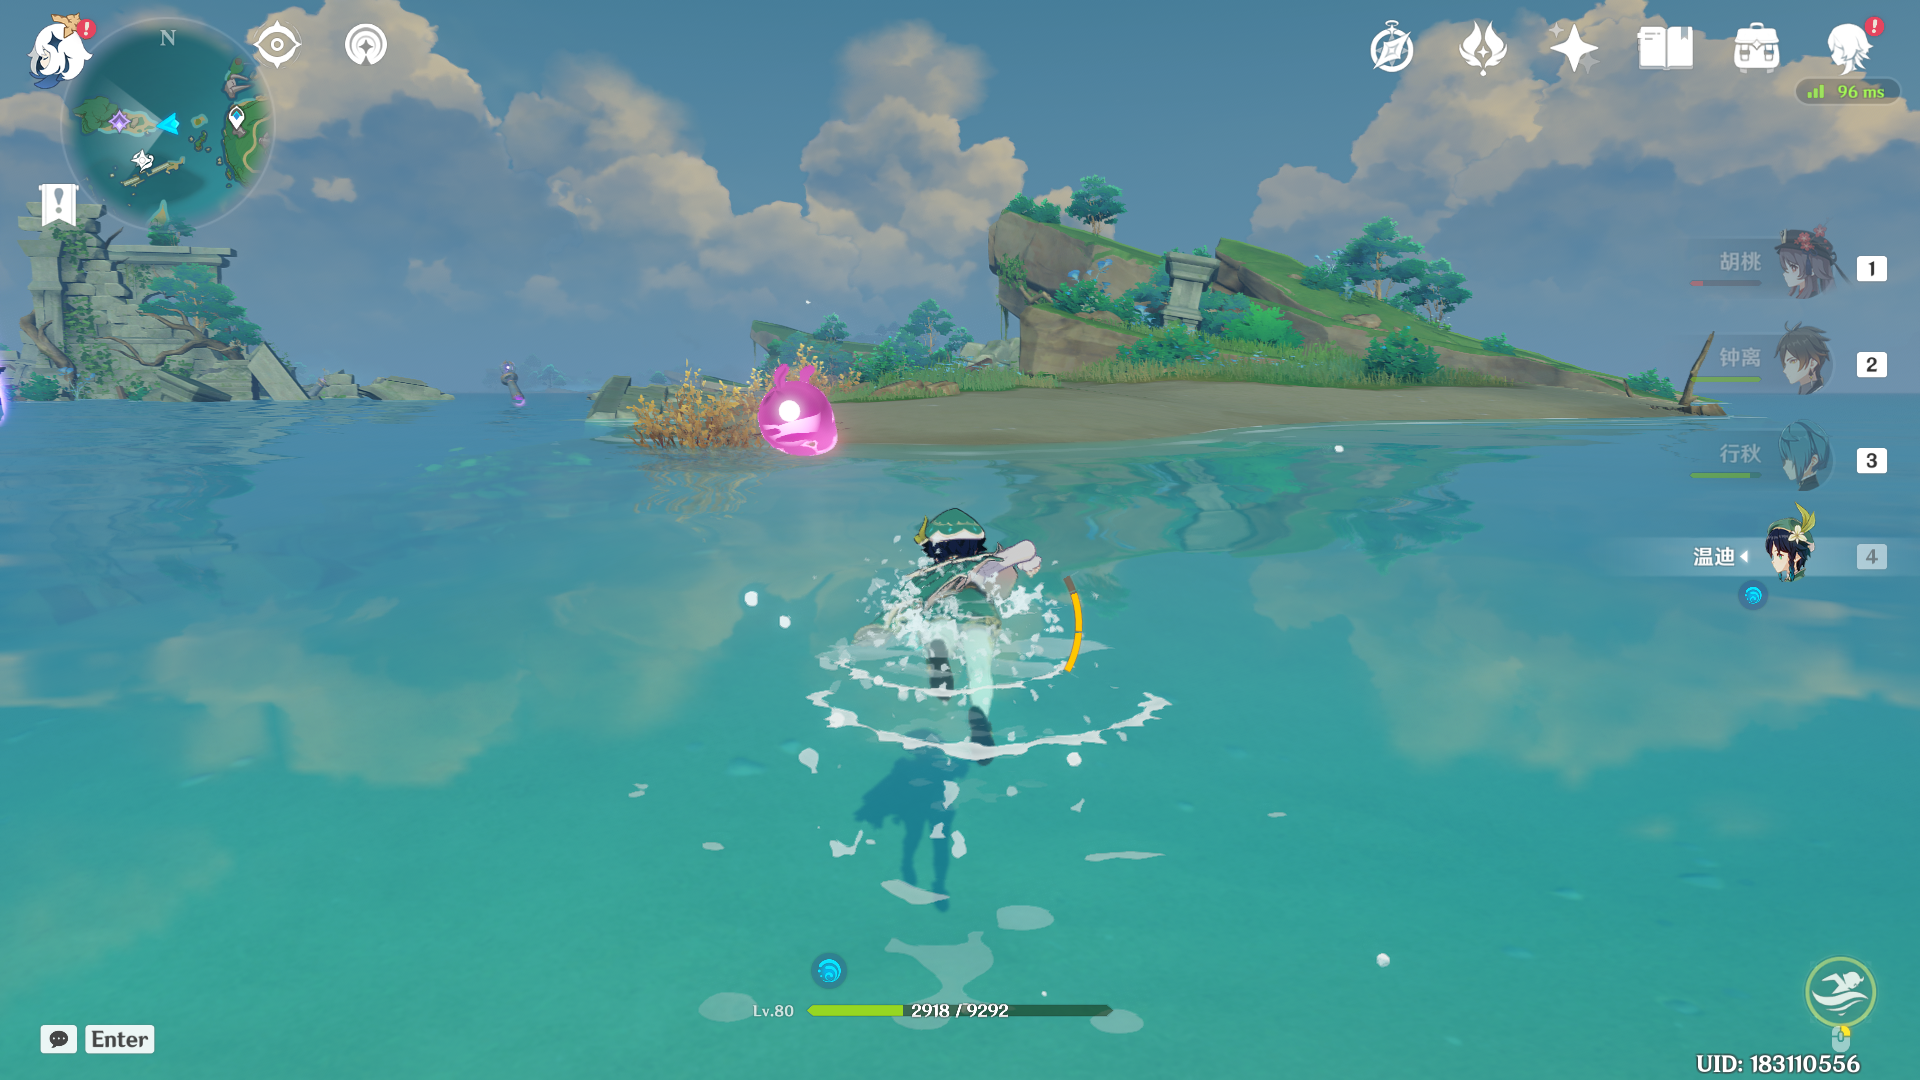character: (793, 469, 1098, 831)
